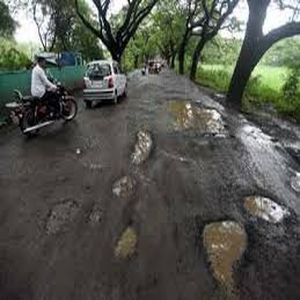pothole: (200, 213, 249, 300), (166, 97, 226, 138), (240, 193, 292, 225), (47, 198, 75, 235), (128, 128, 153, 162), (115, 222, 137, 259), (112, 175, 136, 197)
